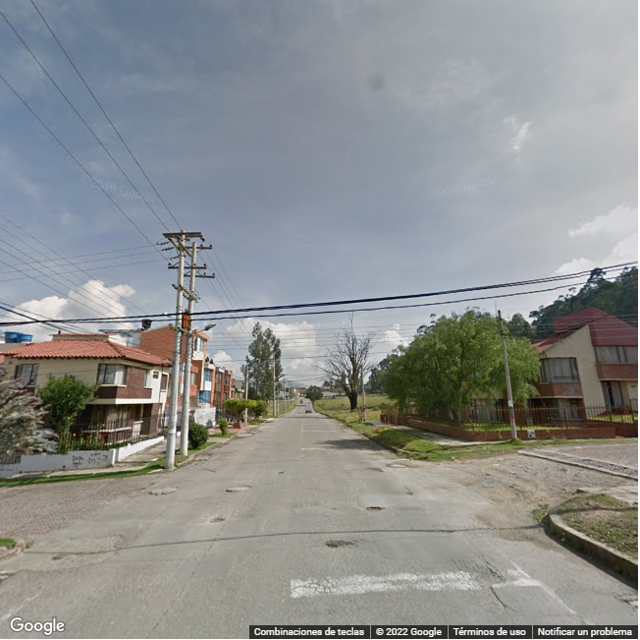D00: (490, 582, 514, 615)
D20: (451, 563, 499, 585)
D40: (321, 535, 363, 552)
